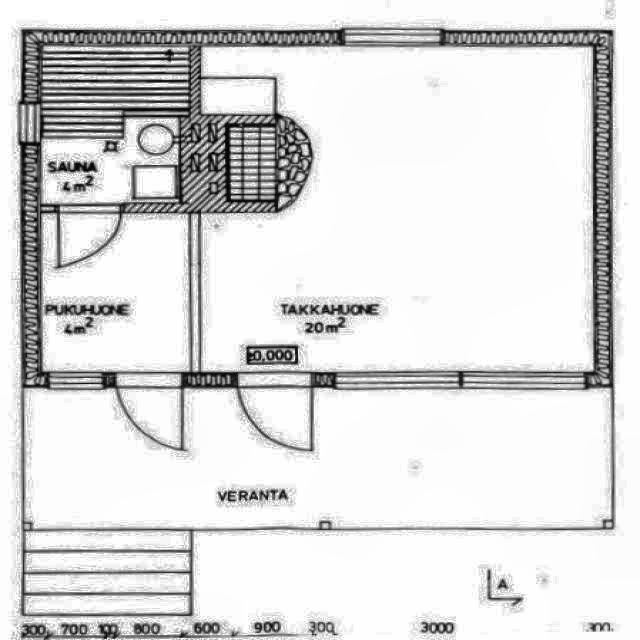room: (40, 47, 189, 203), (42, 214, 189, 371)
